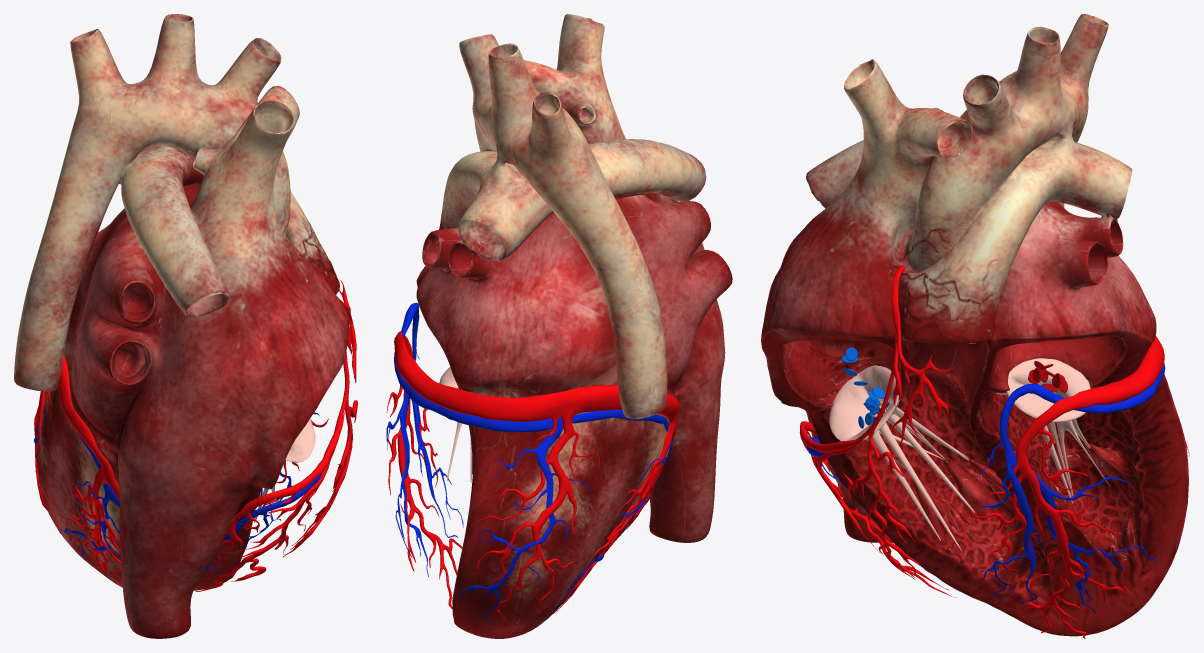
Rendered from Heart_WebAR.glb.
3 views of the same model, side by side, from view 1: azimuth 30°, elevation 25°; view 2: azimuth 150°, elevation 25°; view 3: azimuth 270°, elevation 25° (orthographic). The views are drawn at different scales.
Visible parts, largest first — view 1: polySurface4, Heart_Exteror_Vains_2_GEO.002, Heart_Exteror_Vains_2_GEO, Heart_Exteror_Vains_1_GEO, Tricuspid_Valve_GEO, Heart_Exteror_Vains_1_GEO.002; view 2: polySurface4, Heart_Exteror_Vains_2_GEO, Heart_Exteror_Vains_2_GEO.001, Heart_Exteror_Vains_1_GEO, Heart_Exteror_Vains_1_GEO.001, Mitral_Valve_GEO; view 3: polySurface4, Right Ventricle, Left Ventricle, Heart_Exteror_Vains_2_GEO.001, Heart_Exteror_Vains_2_GEO.002, Tricuspid_Valve_GEO, Heart_Exteror_Vains_1_GEO.001, Right Atrium, Left Atrium, Mitral_Valve_GEO.
Part boxes in pixels (bbox=[...]): polySurface4: bbox=[14, 14, 349, 638]; Heart_Exteror_Vains_2_GEO.002: bbox=[195, 273, 357, 591]; Heart_Exteror_Vains_2_GEO: bbox=[34, 354, 259, 583]; Heart_Exteror_Vains_1_GEO: bbox=[34, 408, 254, 573]; Tricuspid_Valve_GEO: bbox=[254, 419, 315, 522]; Heart_Exteror_Vains_1_GEO.002: bbox=[238, 473, 321, 553]; polySurface4: bbox=[416, 14, 732, 638]; Heart_Exteror_Vains_2_GEO: bbox=[460, 385, 679, 622]; Heart_Exteror_Vains_2_GEO.001: bbox=[386, 331, 463, 608]; Heart_Exteror_Vains_1_GEO: bbox=[459, 409, 672, 622]; Heart_Exteror_Vains_1_GEO.001: bbox=[386, 302, 467, 576]; Mitral_Valve_GEO: bbox=[439, 367, 472, 482]; polySurface4: bbox=[761, 14, 1188, 636]; Right Ventricle: bbox=[824, 367, 1050, 597]; Left Ventricle: bbox=[977, 384, 1143, 566]; Heart_Exteror_Vains_2_GEO.001: bbox=[968, 348, 1164, 638]; Heart_Exteror_Vains_2_GEO.002: bbox=[799, 265, 956, 597]; Tricuspid_Valve_GEO: bbox=[829, 365, 974, 551]; Heart_Exteror_Vains_1_GEO.001: bbox=[978, 366, 1164, 613]; Right Atrium: bbox=[780, 340, 898, 408]; Left Atrium: bbox=[991, 336, 1126, 386]; Mitral_Valve_GEO: bbox=[1006, 358, 1109, 503].
Bounding box in the file's own units: 0.3825 × 0.7545 × 0.4849.
9 materials, 1 textured.
